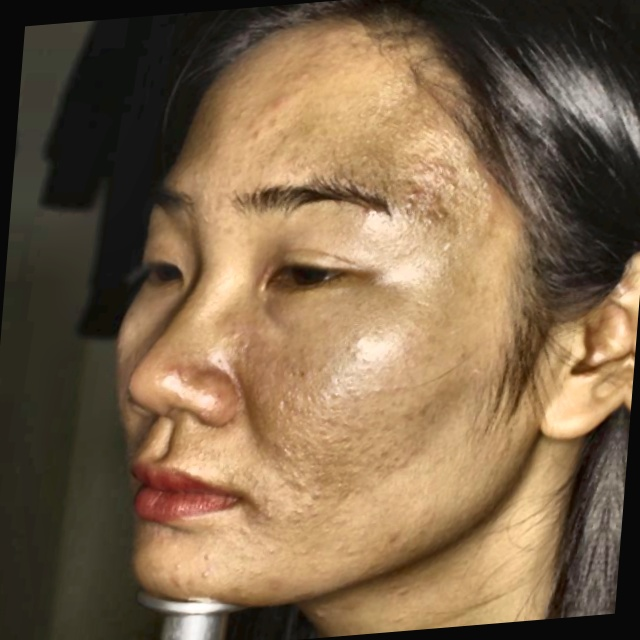comedone: (409, 179, 461, 228), (254, 91, 298, 123)
